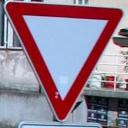preferencia: (2, 0, 124, 122)
